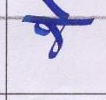e_matra: (41, 1, 72, 18)
